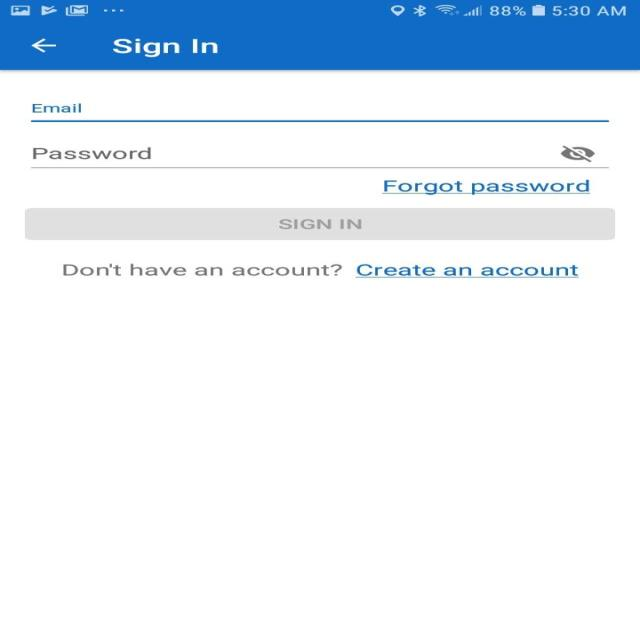EditText: (30, 145, 608, 168), (30, 103, 609, 122)
Icon: (559, 145, 595, 163), (30, 38, 57, 53)
Text: (62, 263, 342, 276), (382, 179, 590, 195), (354, 264, 578, 278), (112, 38, 218, 58), (32, 146, 151, 160), (32, 104, 82, 113)
TextButton: (24, 208, 614, 240)
